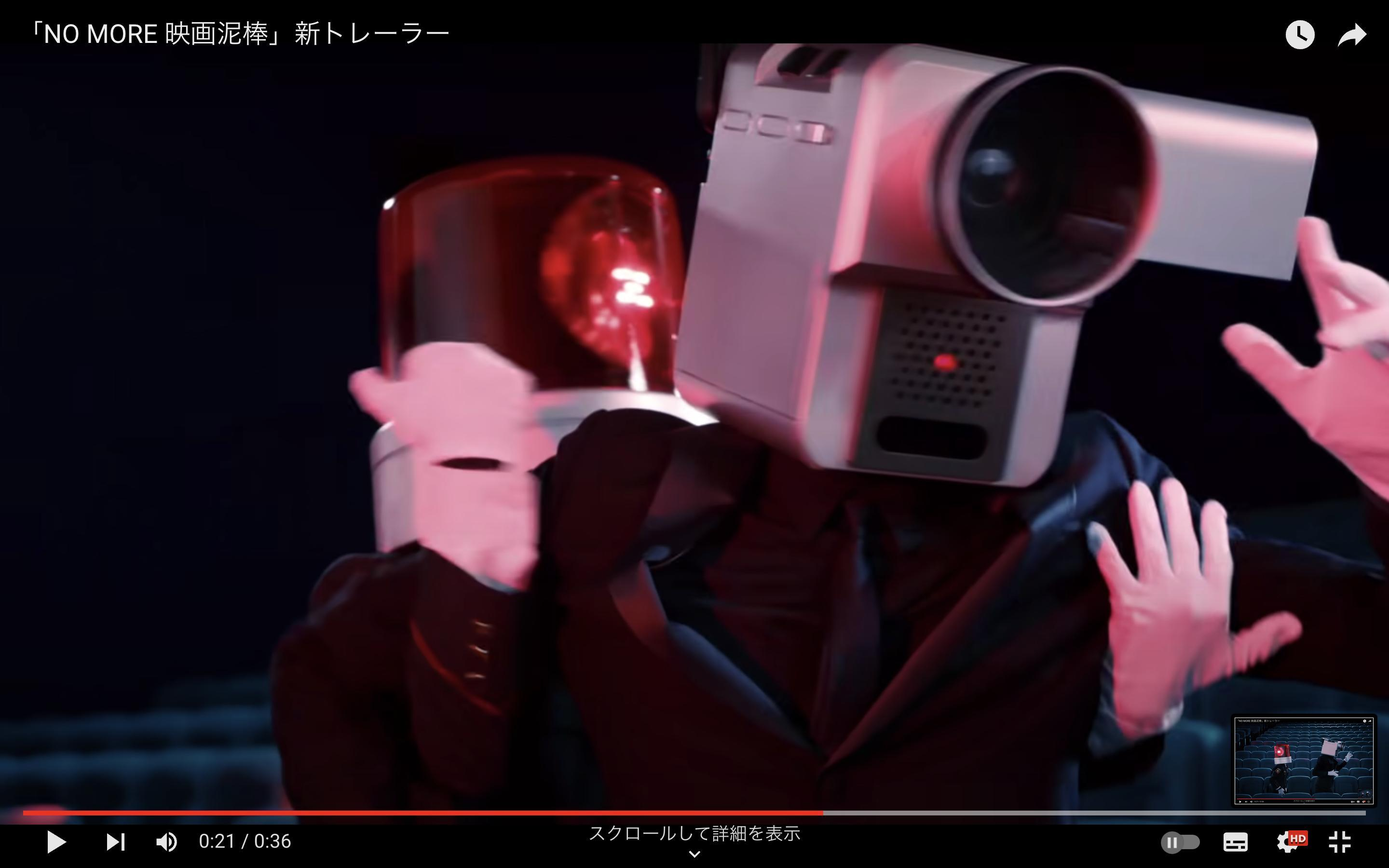no more kid: (664, 30, 1325, 497)
